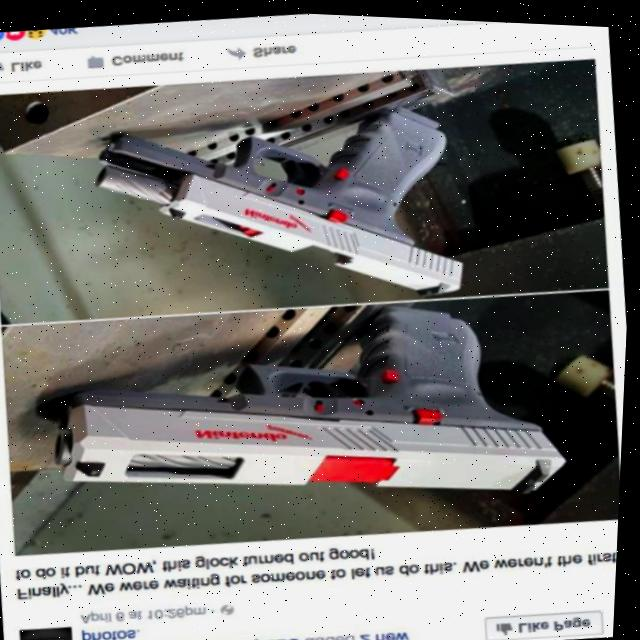pistol: (36, 268, 582, 540), (81, 82, 478, 330)
